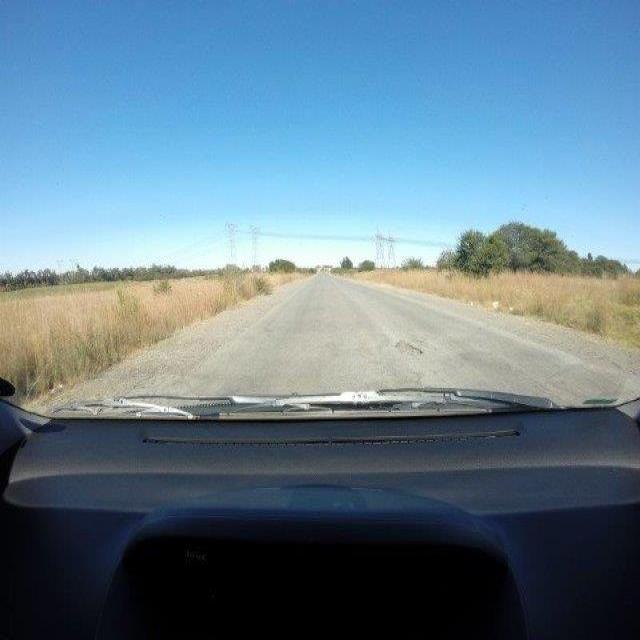lubang: (393, 336, 424, 359)
